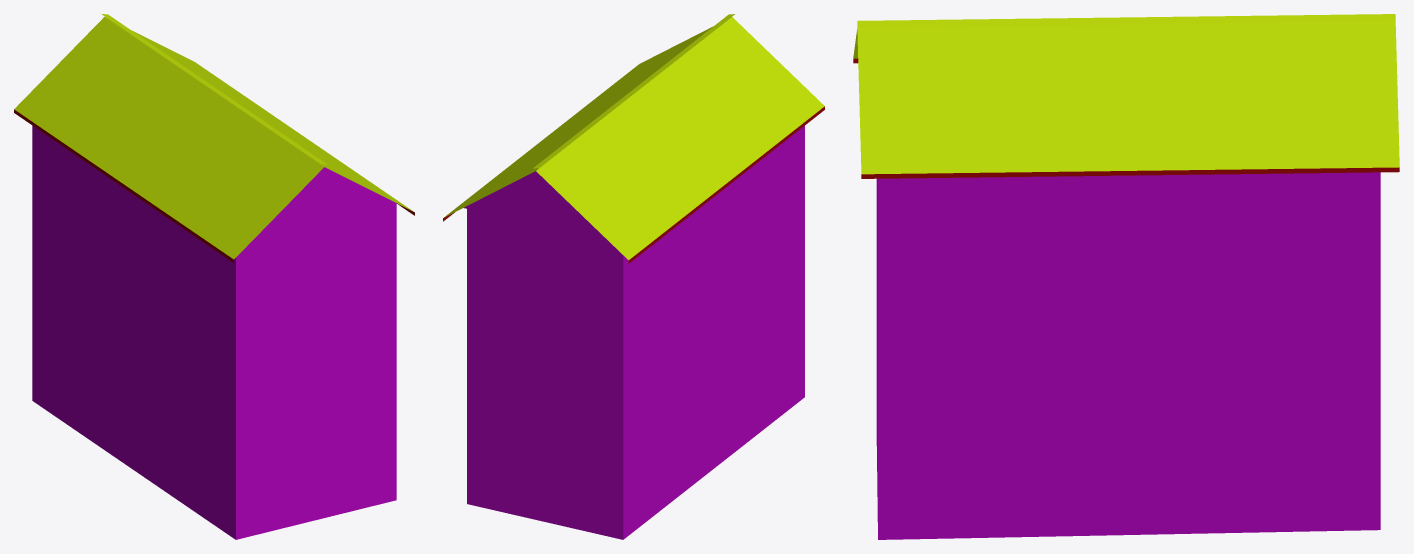
File: svc_23.glb
The picture shows the model from 3 angles, left to right: view 1: azimuth 30°, elevation 25°; view 2: azimuth 150°, elevation 25°; view 3: azimuth 270°, elevation 25°; orthographic projection. The views are drawn at different scales.
Parts seen in each view (by area): view 1: svc_23; view 2: svc_23; view 3: svc_23.
Part boxes in pixels (x1=…): svc_23: x1=14, y1=14, x2=414, y2=539; svc_23: x1=443, y1=14, x2=824, y2=539; svc_23: x1=853, y1=14, x2=1399, y2=539.
Bounding box in the file's own units: 6.77 × 12.01 × 12.75.
